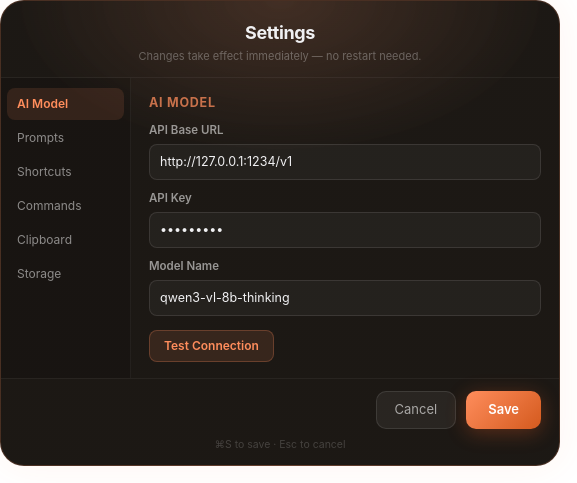
SettingsView › crash panel: shows empty state when nothing is recorded
Click the button with test id "settings-tab-storage".
click(66, 274)  # box [7, 258, 124, 290]
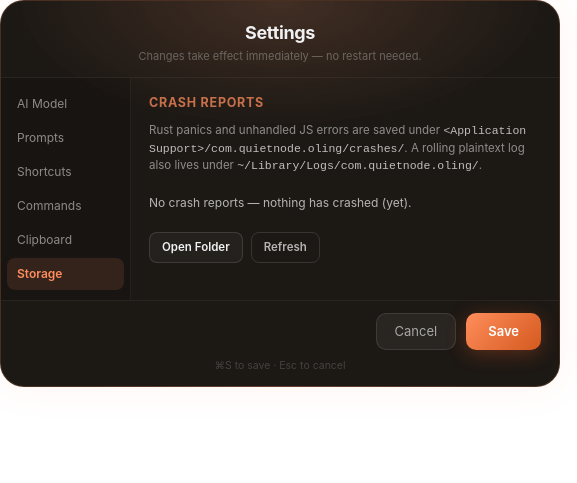
Expected: the text with test id "settings-crash-report-count" shows "No crash reports", [149, 195, 412, 210]
